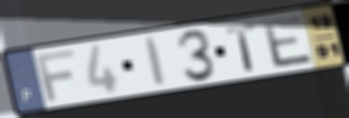3: (175, 28, 217, 84)
4: (86, 41, 124, 97)
E: (259, 13, 316, 70)
F: (34, 48, 77, 103)
I: (142, 34, 169, 89)
T: (223, 22, 259, 73)
